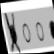correct: (47, 19, 54, 41)
not correct: (3, 10, 21, 54)
